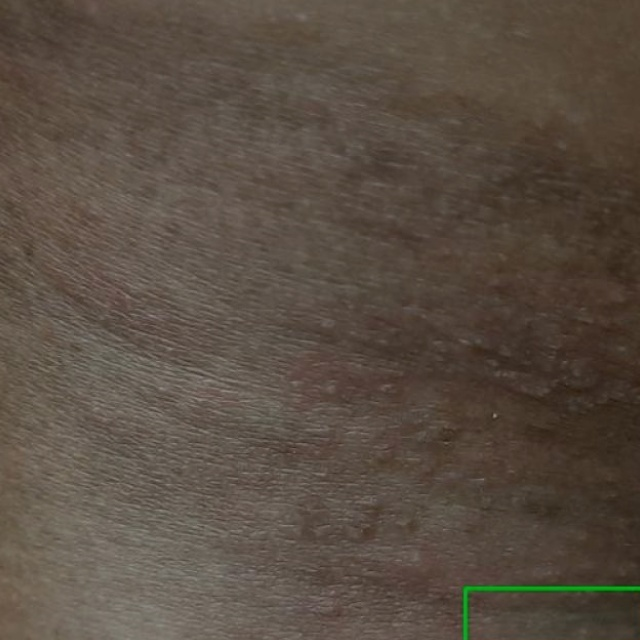Tinea Corporis: (465, 588, 639, 639)
